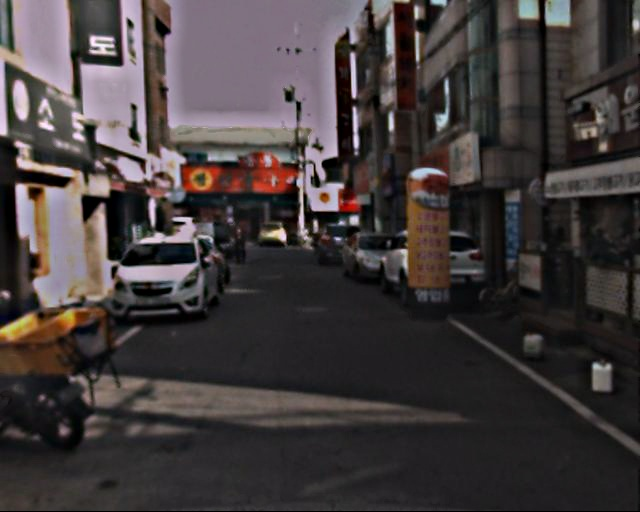person: (230, 222, 251, 268)
